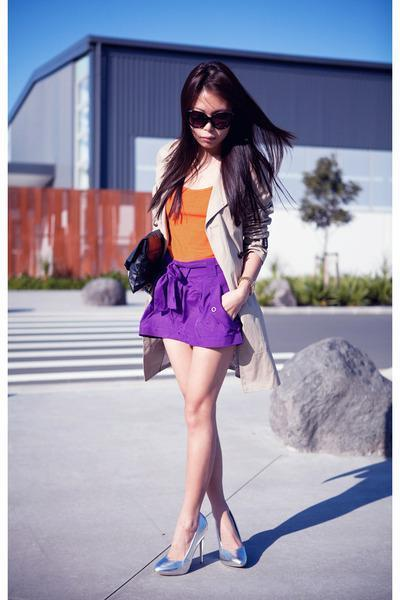bag: (121, 227, 172, 294)
shirt: (169, 186, 214, 261)
skirt: (139, 258, 244, 347)
sunglass: (204, 97, 230, 133)
